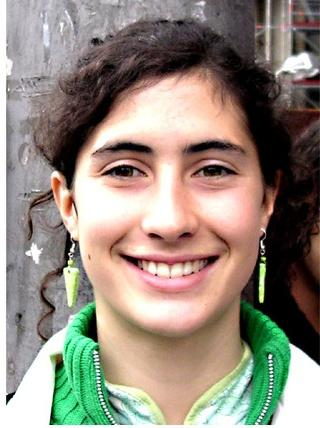No Mask: (40, 47, 279, 371)
